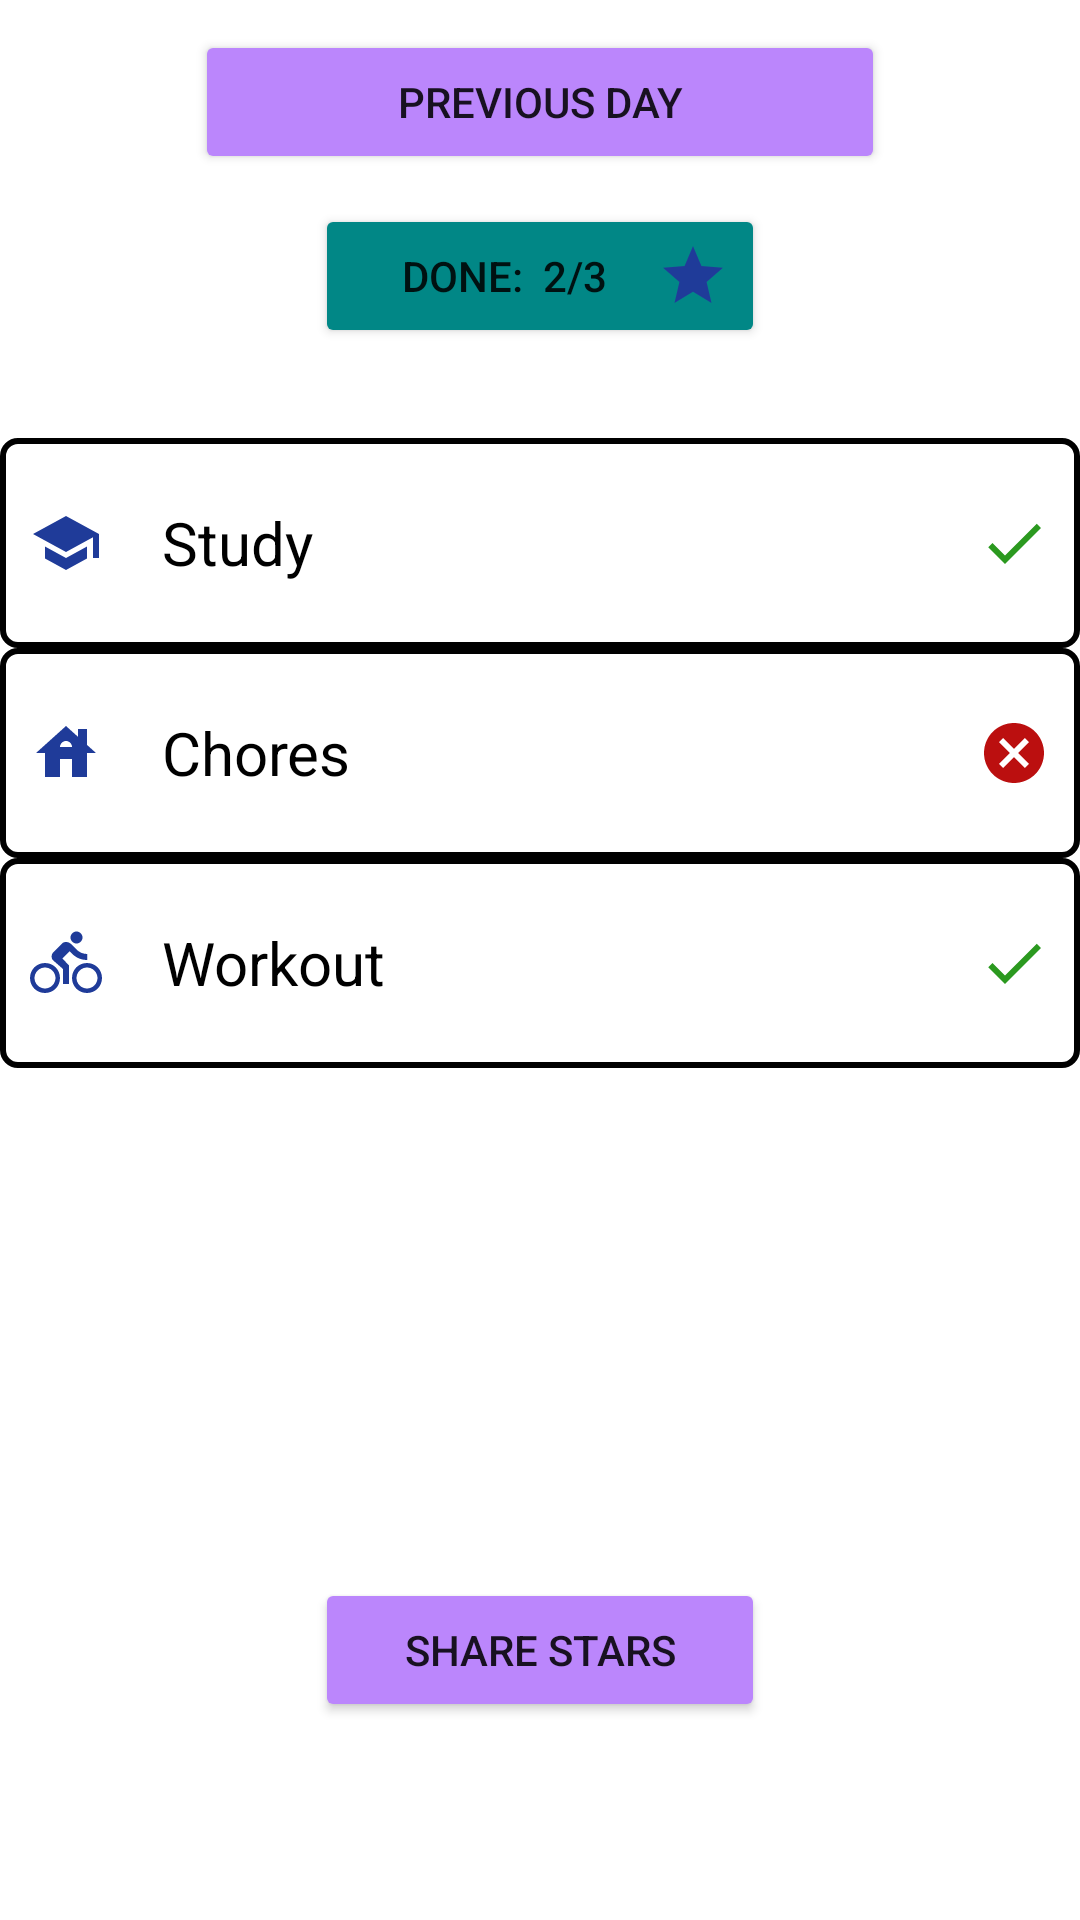

Locate icon controls on the screen. Image size 1080w x 1920h, boxes as (x1, y1, x2, y2).
cancel: (984, 723, 1044, 783)
check: (988, 524, 1041, 564), (988, 944, 1041, 984)
directions bike: (30, 931, 102, 993)
house: (36, 726, 96, 777)
school: (33, 516, 99, 570)
